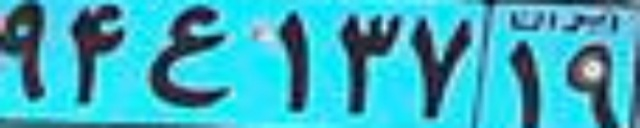1: (275, 10, 307, 112), (505, 39, 541, 127)
3: (340, 12, 400, 116)
4: (69, 3, 127, 105)
7: (409, 15, 474, 118)
9: (562, 41, 617, 127), (2, 1, 48, 101)
ain: (146, 5, 229, 108)
